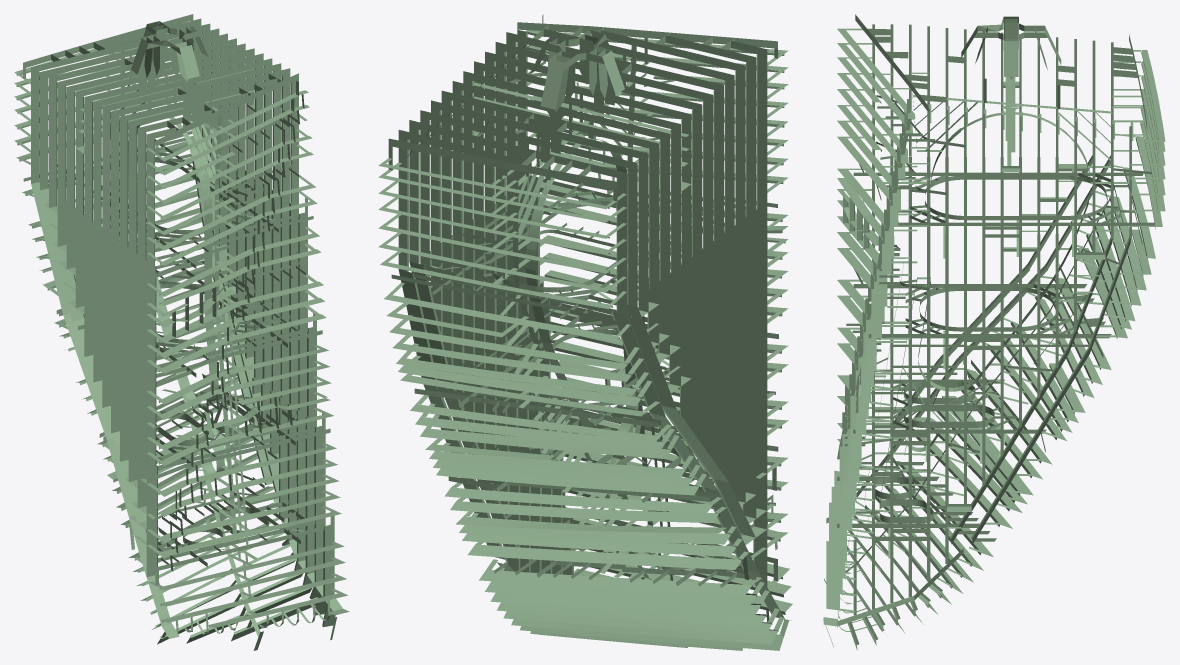
File: DIRTY_SLOP_TK_PS.glb
3 views of the same model, side by side, from view 1: azimuth 30°, elevation 25°; view 2: azimuth 150°, elevation 25°; view 3: azimuth 270°, elevation 25° (orthographic). The views are drawn at different scales.
Visible parts, largest first — view 1: ST_UDxSlopTankPxDL19_001002-FB_340x22.5_NVA36_1993, ST_UDxSlopTankPxDL21_001002-FB_340x22.5_NVA36_1993, ST_UDxSlopTankPxDL18_001002-FB_340x22.5_NVA36_1993, ST_UDxSlopTankPxDL20_001002-FB_340x22.5_NVA36_1993, ST_SideTransBHDxBHD51PxWeb_015002-TW_595x12.5+150x27_NVA32_1, ST_UDxSlopTankPxDL22_001002-FB_340x22.5_NVA36_1993, ST_SideTransBHDxBHD51PxWeb_026002-TW_495x11+150x28.5_NVA32_1, ST_SideTransBHDxBHD51PxWeb_023003-TW_495x11+150x28.5_NVA32_1, ST_SideTransBHDxBHD51PxWeb_049002-TW_495x11+150x25.5_NVA32_1, ST_SideTransBHDxBHD51PxWeb_054002-TW_495x11+150x25.5_NVA32_1, ST_SideTransBHDxBHD51PxWeb_039002-TW_495x11+150x25.5_NVA32_1, ST_SideTransBHDxBHD51PxWeb_042002-TW_495x11+150x25.5_NVA32_1 (+35 smaller); view 2: ST_OuterShellxSlopTankPxL36xWeb_001002-IA_679x150x12.5x34_NV, ST_OuterShellxSlopTankPxL33xWeb_001002-TW_645x12.5+150x25_NV, ST_OuterShellxSlopTankPxL34xWeb_001002-IA_669x150x12.5x24_NV, ST_OuterShellxSlopTankPxL32xWeb_001002-TW_645x13.5+150x27_NV, ST_OuterShellxSlopTankPxL39xWeb_001002-IA_573.5x150x11x28.5_, ST_OuterShellxSlopTankPxL40xWeb_001002-IA_572.5x150x11x27.5_, ST_OuterShellxSlopTankPxL37xWeb_001002-IA_673.5x150x12.5x28., ST_OuterShellxSlopTankPxL37A2xWeb_001002-IA_668.5x150x12.5x2, ST_OuterShellxSlopTankPxL31xWeb_001002-TW_645x13.5+150x30_NV, ST_OuterShellxSlopTankPxL44xWeb_001002-IA_520x125x11x25_NVA3, ST_OuterShellxSlopTankPxL42xWeb_001002-IA_521.5x150x11x26.5_, ST_OuterShellxSlopTankPxL42A1xWeb_001002-IA_524x150x11x29_NV (+83 smaller); view 3: ST_OuterShellxSlopTankPxL38xWeb_001002-IA_673.5x150x12.5x28., FP_SupportStoolxSlopTankP_005001-T_720x40_NVD36_2014, ST_LBHDxNo6CenterTankPxL62xWeb_234002-IA_361x100x11x16_NVA32, ST_LBHDxNo6CenterTankPxL61xWeb_233002-IA_360x100x11x15_NVA32.
Part boxes in pixels (x1,y1,x2,y2): ST_UDxSlopTankPxDL19_001002-FB_340x22.5_NVA36_1993: [144, 75, 263, 109]; ST_UDxSlopTankPxDL21_001002-FB_340x22.5_NVA36_1993: [126, 65, 245, 99]; ST_UDxSlopTankPxDL18_001002-FB_340x22.5_NVA36_1993: [153, 80, 271, 114]; ST_UDxSlopTankPxDL20_001002-FB_340x22.5_NVA36_1993: [135, 70, 254, 104]; ST_SideTransBHDxBHD51PxWeb_015002-TW_595x12.5+150x27_NVA32_1: [146, 466, 157, 537]; ST_UDxSlopTankPxDL22_001002-FB_340x22.5_NVA36_1993: [117, 60, 236, 94]; ST_SideTransBHDxBHD51PxWeb_026002-TW_495x11+150x28.5_NVA32_1: [128, 382, 137, 451]; ST_SideTransBHDxBHD51PxWeb_023003-TW_495x11+150x28.5_NVA32_1: [137, 389, 146, 457]; ST_SideTransBHDxBHD51PxWeb_049002-TW_495x11+150x25.5_NVA32_1: [93, 227, 102, 295]; ST_SideTransBHDxBHD51PxWeb_054002-TW_495x11+150x25.5_NVA32_1: [75, 214, 84, 282]; ST_SideTransBHDxBHD51PxWeb_039002-TW_495x11+150x25.5_NVA32_1: [137, 260, 146, 328]; ST_SideTransBHDxBHD51PxWeb_042002-TW_495x11+150x25.5_NVA32_1: [128, 253, 137, 321]; ST_OuterShellxSlopTankPxL36xWeb_001002-IA_679x150x12.5x34_NV: [507, 547, 691, 567]; ST_OuterShellxSlopTankPxL33xWeb_001002-TW_645x12.5+150x25_NV: [524, 584, 705, 604]; ST_OuterShellxSlopTankPxL34xWeb_001002-IA_669x150x12.5x24_NV: [518, 572, 699, 593]; ST_OuterShellxSlopTankPxL32xWeb_001002-TW_645x13.5+150x27_NV: [530, 595, 710, 614]; ST_OuterShellxSlopTankPxL39xWeb_001002-IA_573.5x150x11x28.5_: [489, 503, 669, 521]; ST_OuterShellxSlopTankPxL40xWeb_001002-IA_572.5x150x11x27.5_: [483, 490, 663, 510]; ST_OuterShellxSlopTankPxL37xWeb_001002-IA_673.5x150x12.5x28.: [502, 536, 686, 554]; ST_OuterShellxSlopTankPxL37A2xWeb_001002-IA_668.5x150x12.5x2: [498, 527, 681, 543]; ST_OuterShellxSlopTankPxL31xWeb_001002-TW_645x13.5+150x30_NV: [536, 605, 714, 624]; ST_OuterShellxSlopTankPxL44xWeb_001002-IA_520x125x11x25_NVA3: [457, 431, 624, 455]; ST_OuterShellxSlopTankPxL42xWeb_001002-IA_521.5x150x11x26.5_: [471, 463, 644, 484]; ST_OuterShellxSlopTankPxL42A1xWeb_001002-IA_524x150x11x29_NV: [467, 454, 638, 474]; ST_OuterShellxSlopTankPxL38xWeb_001002-IA_673.5x150x12.5x28.: [957, 415, 1022, 480]; FP_SupportStoolxSlopTankP_005001-T_720x40_NVD36_2014: [1003, 41, 1018, 76]; ST_LBHDxNo6CenterTankPxL62xWeb_234002-IA_361x100x11x16_NVA32: [851, 45, 906, 105]; ST_LBHDxNo6CenterTankPxL61xWeb_233002-IA_360x100x11x15_NVA32: [851, 59, 904, 119].
Size of the model in its own units: 10.49 by 31.36 by 16.76.
